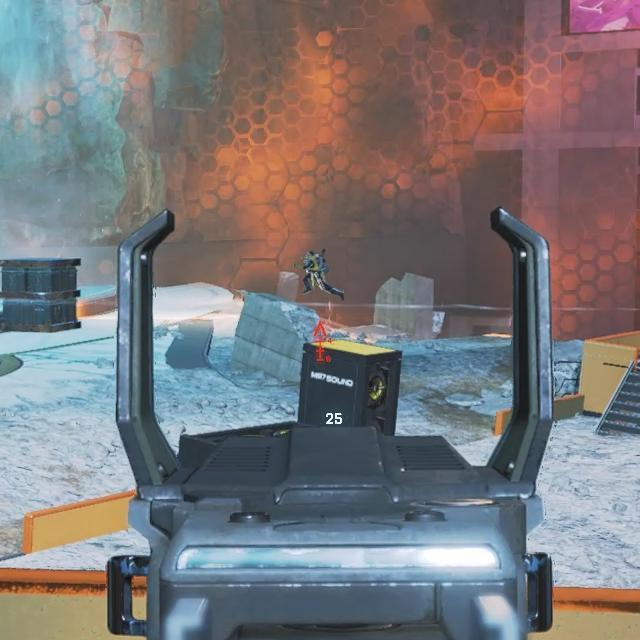avatar: (299, 246, 329, 295)
